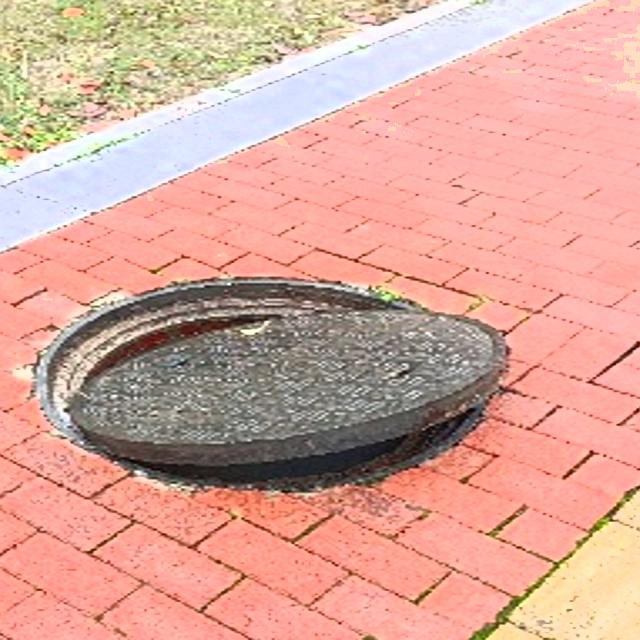uncovered: (36, 276, 509, 495)
